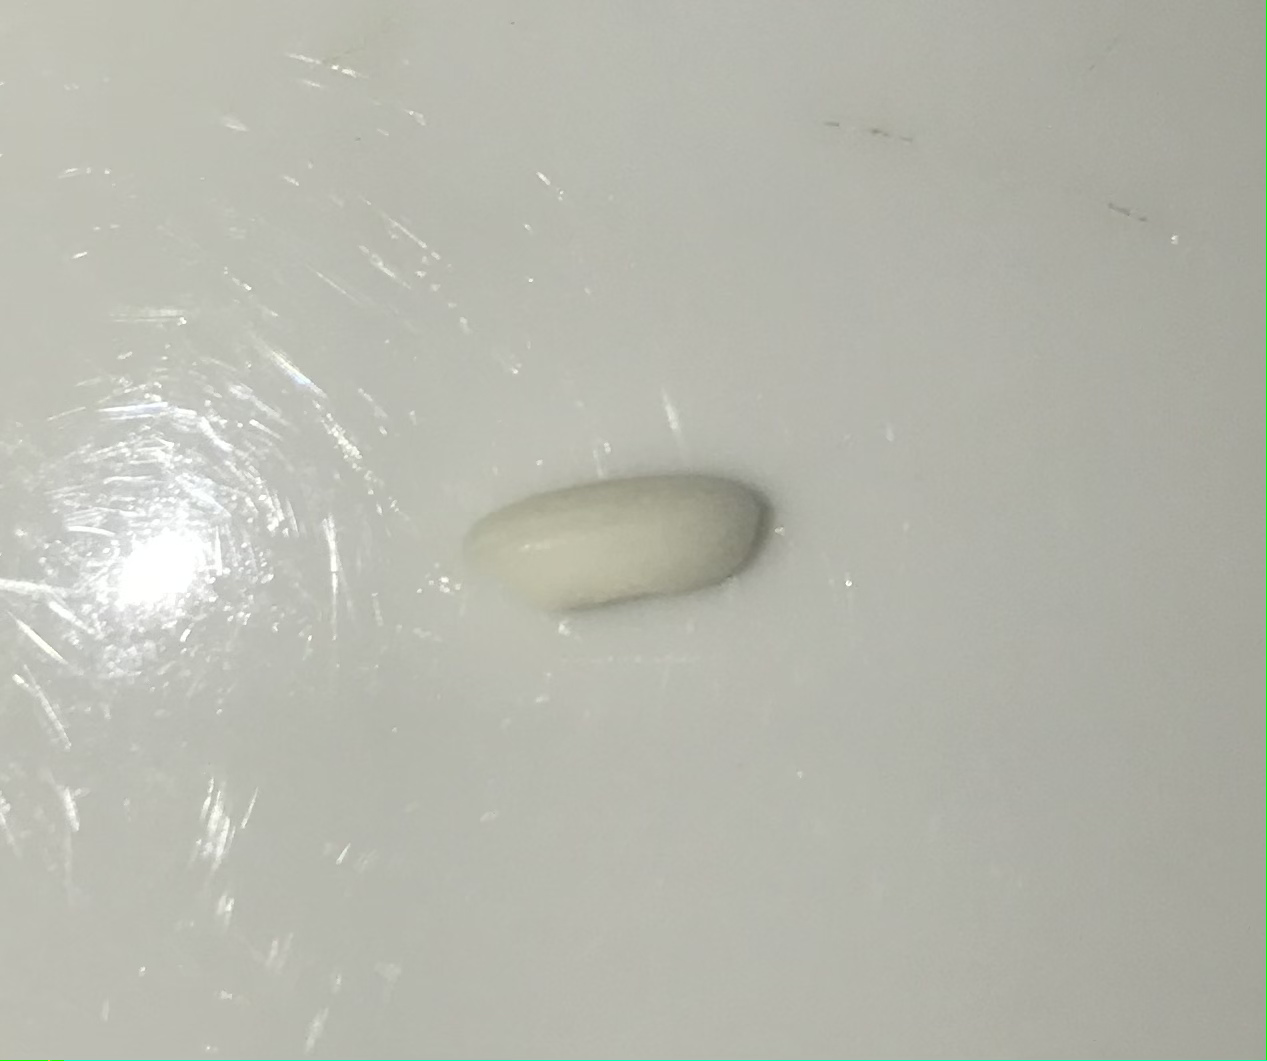Gao Nep Sap: (460, 465, 775, 614)
